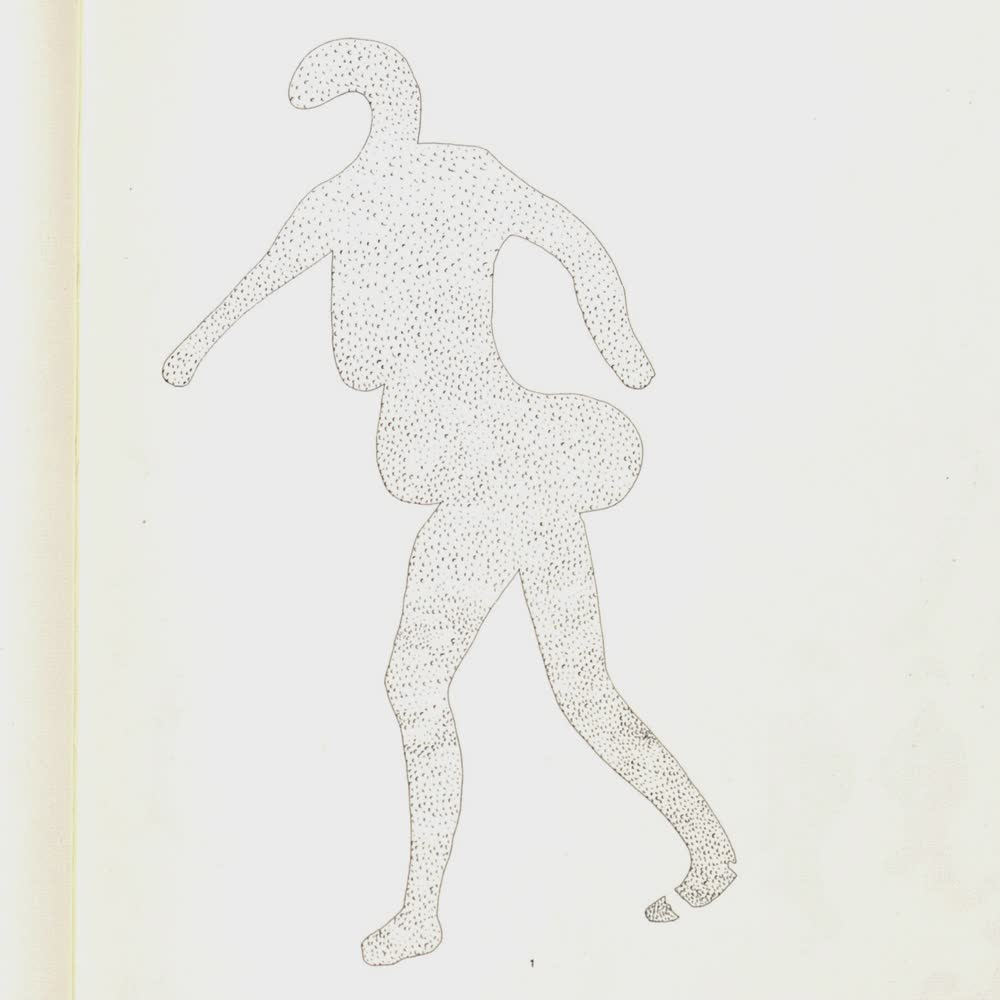woman: (161, 32, 741, 974)
